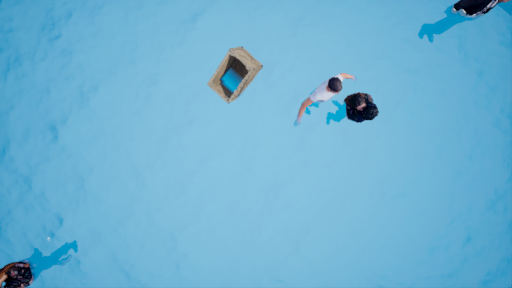person: (294, 71, 382, 134)
